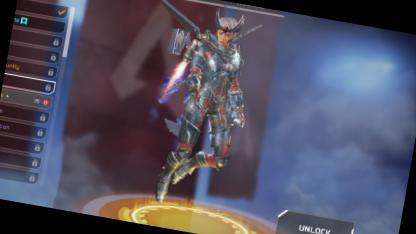Target: (174, 4, 253, 180)
